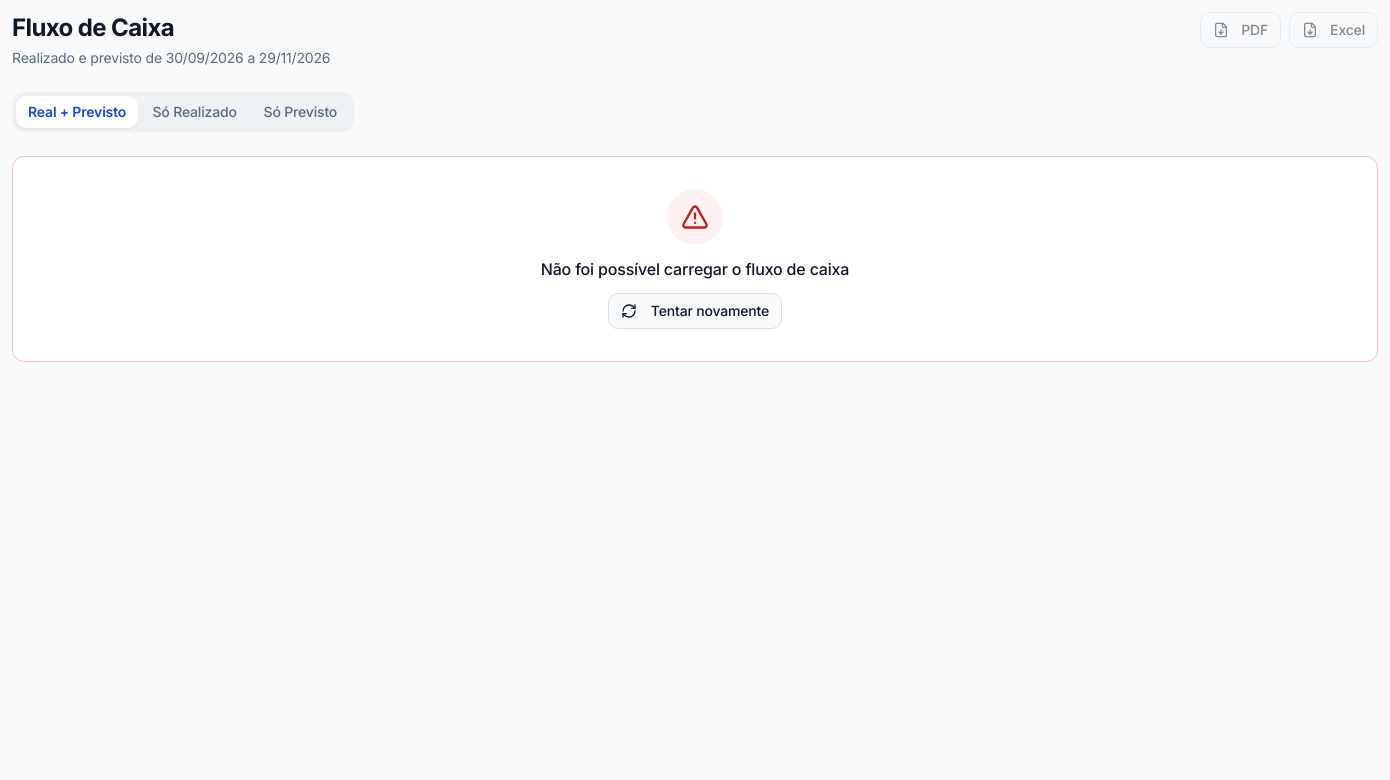
it: Fluxo de Caixa (V2) › erro mostra estado de erro com nova tentativa, nunca zeros
Expected: the text "Não foi possível carregar o fluxo de caixa" is shown, [541,259,849,279]
Expected: the text "Saldo acumulado" is not shown
Step 1. Click the button "Tentar novamente" → (695, 311), box [608,293,782,329]
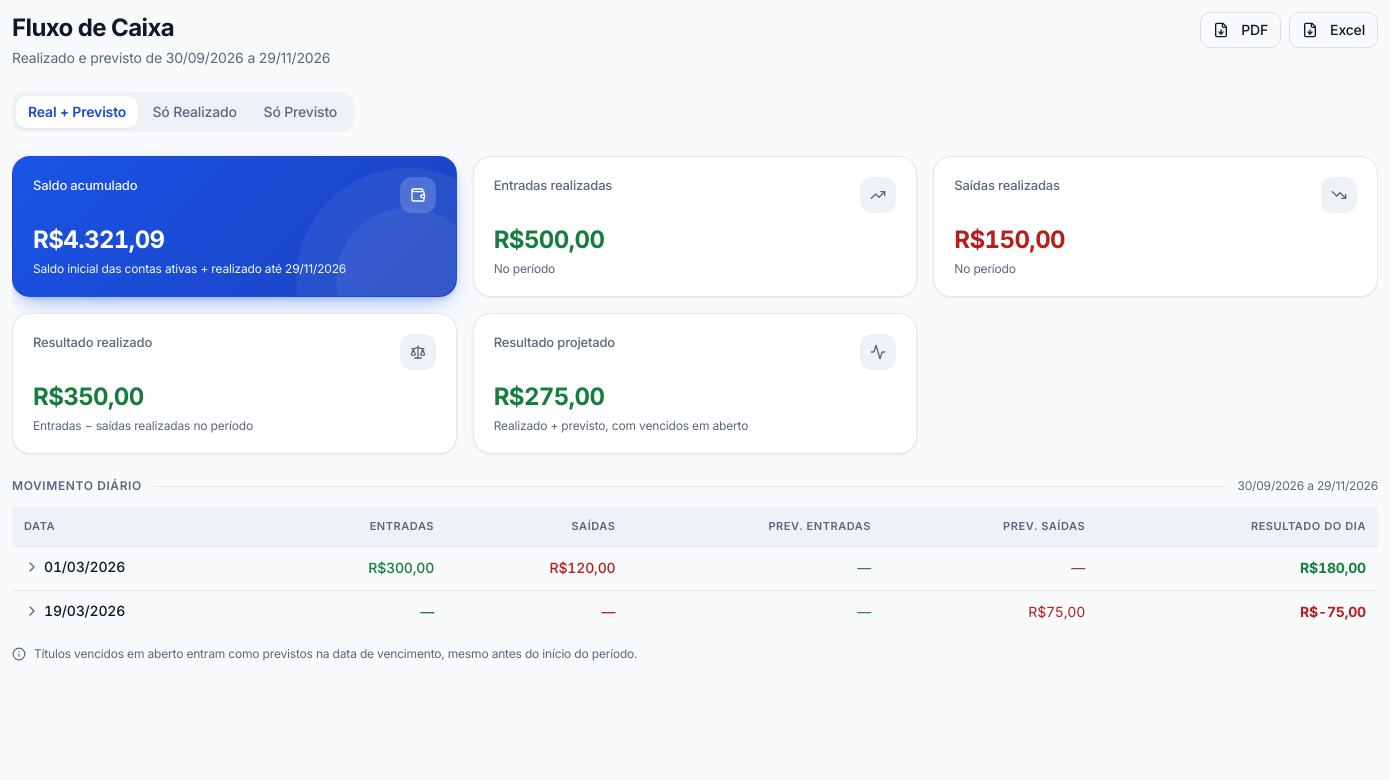
Result: the text "Saldo acumulado" is shown at [33,177,137,193]
